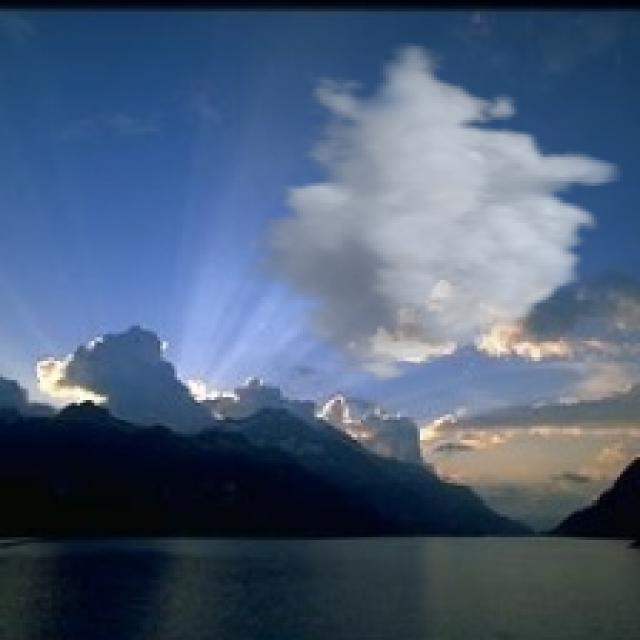Smoke: (237, 43, 623, 386)
